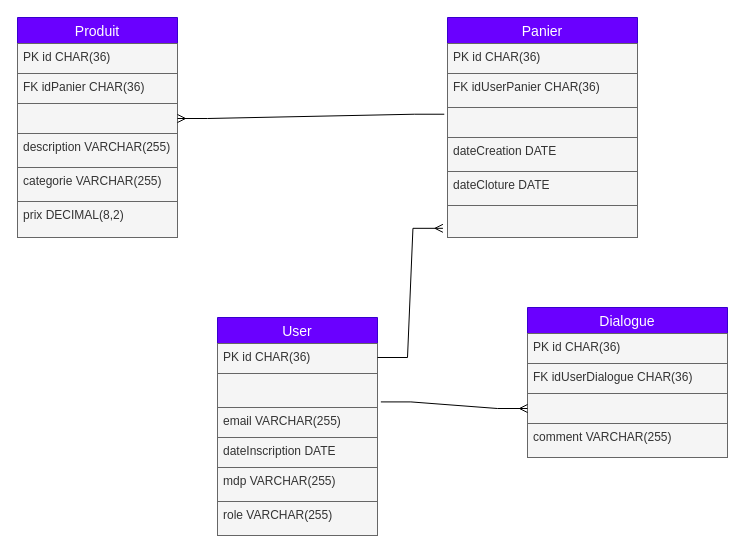
The diagram is 745 pixels wide and 556 high, and some of its shapes have lost their labels. Here are the shapes that lost their labels. From the top down, the centre of each, then its label:
At pixel 97 118: "nom VARCHAR(255)".
At pixel 542 122: "prixPanier DECIMAL(8,2)".
At pixel 542 221: "status VARCHAR(255)".
At pixel 297 390: "pseudo VARCHAR(255)".
At pixel 627 408: "date DATE".
